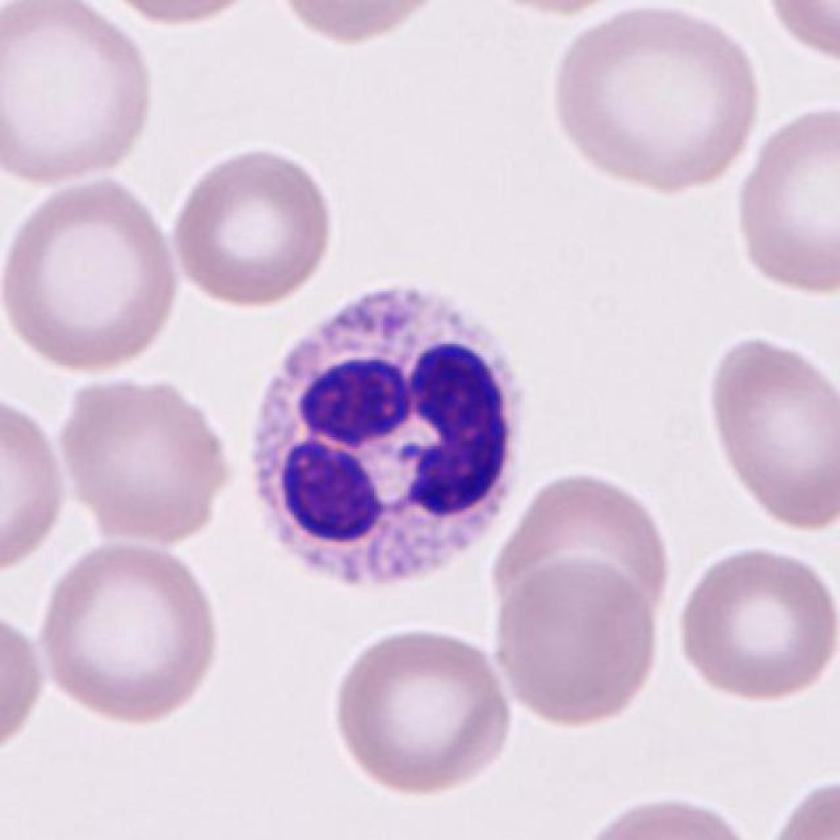neutrophil: (250, 283, 525, 593)
